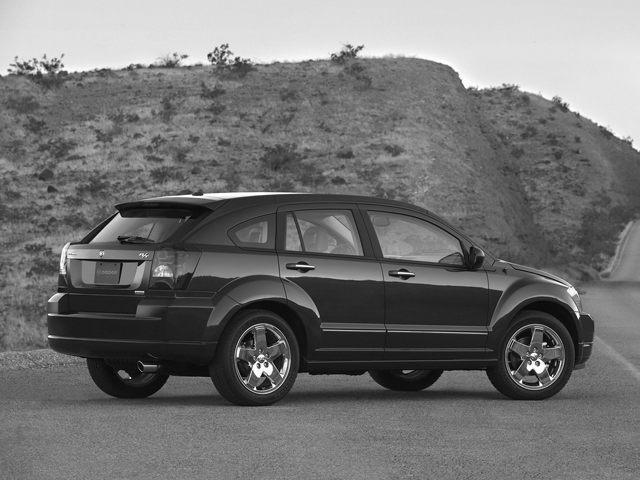car: (41, 187, 600, 411)
